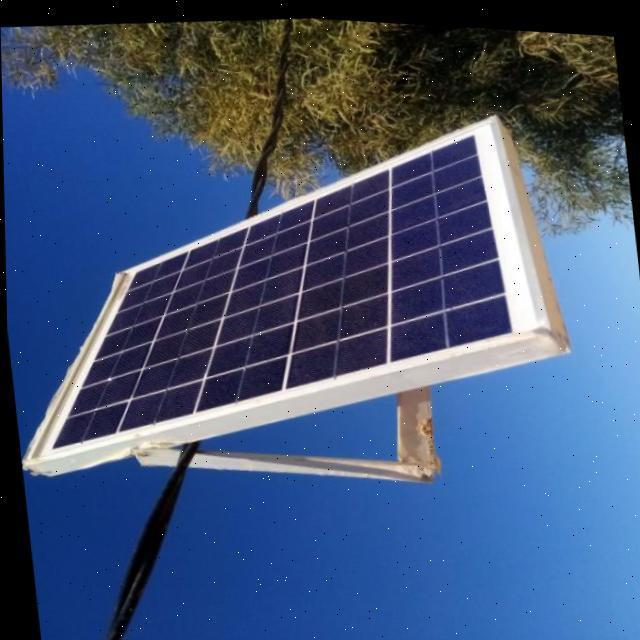Normal Solar Panel: (2, 90, 549, 484)
